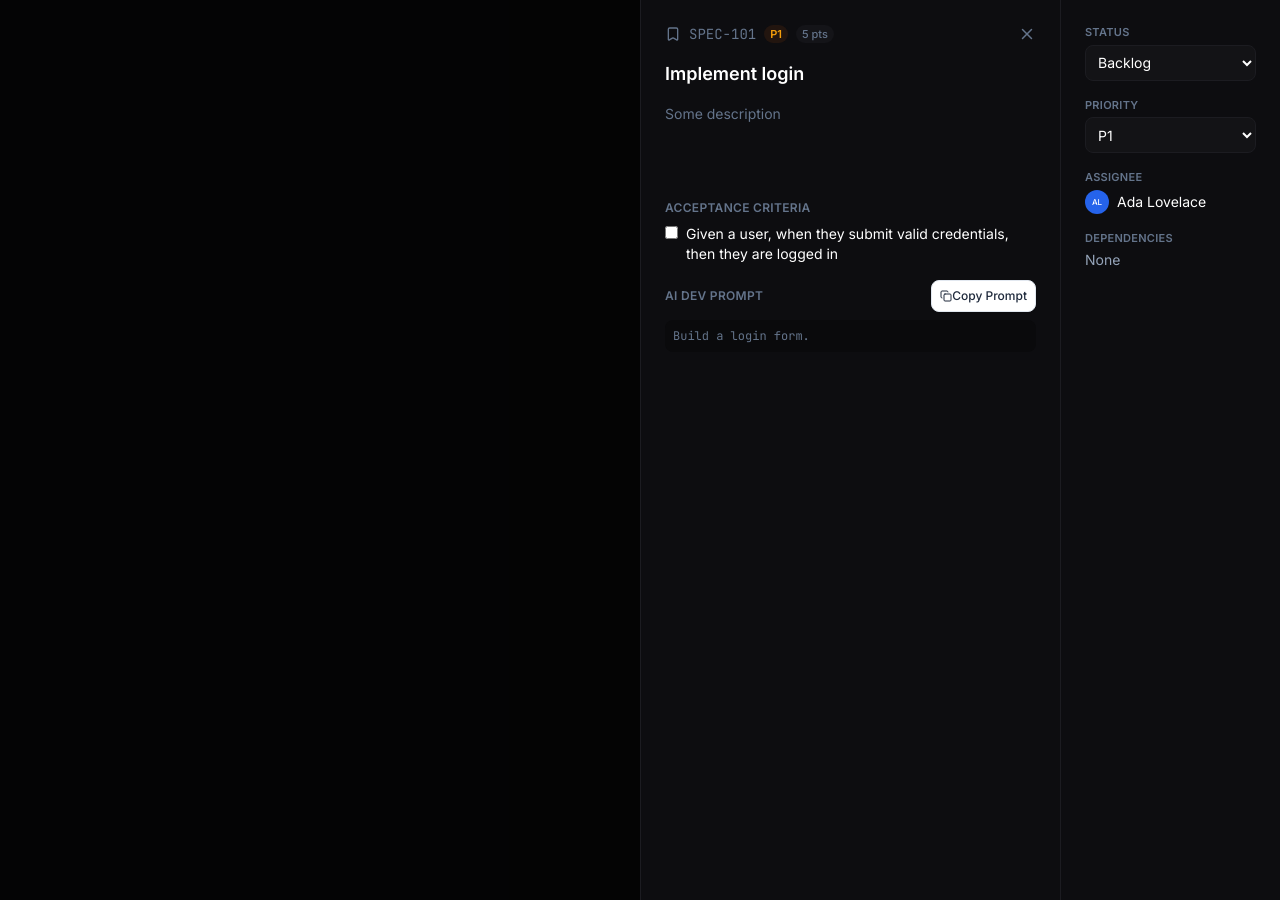
Test: TicketDetailModal › shows an inline error message when an updateTicket edit fails
The width and height of the screenshot is (1280, 900).
Select "P0" in the dropdown labelled "Priority" at x=1170, y=135, box [1085, 117, 1256, 153]
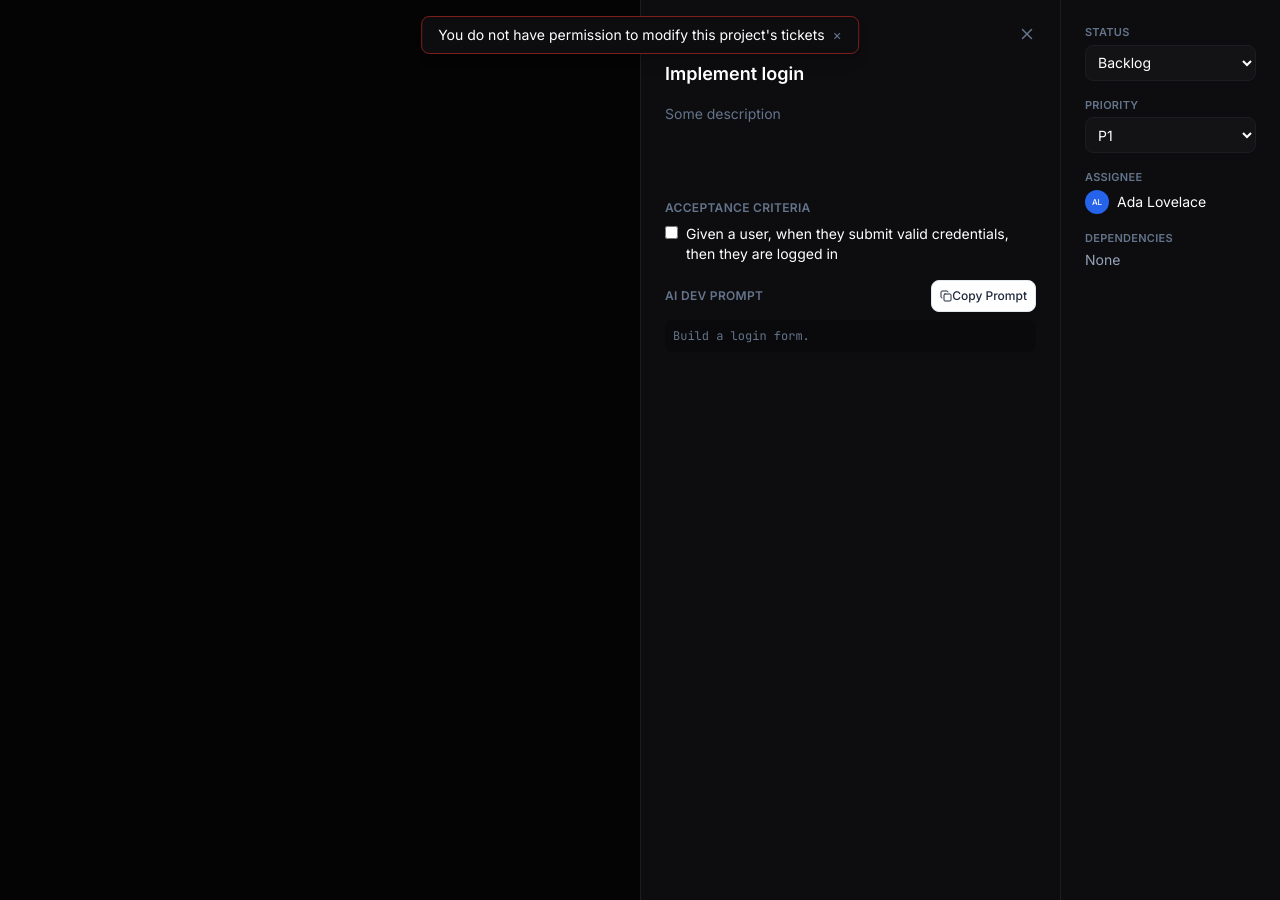
Check: the text "You do not have permission to modify this project's tickets" is shown, box [438, 25, 825, 45]
